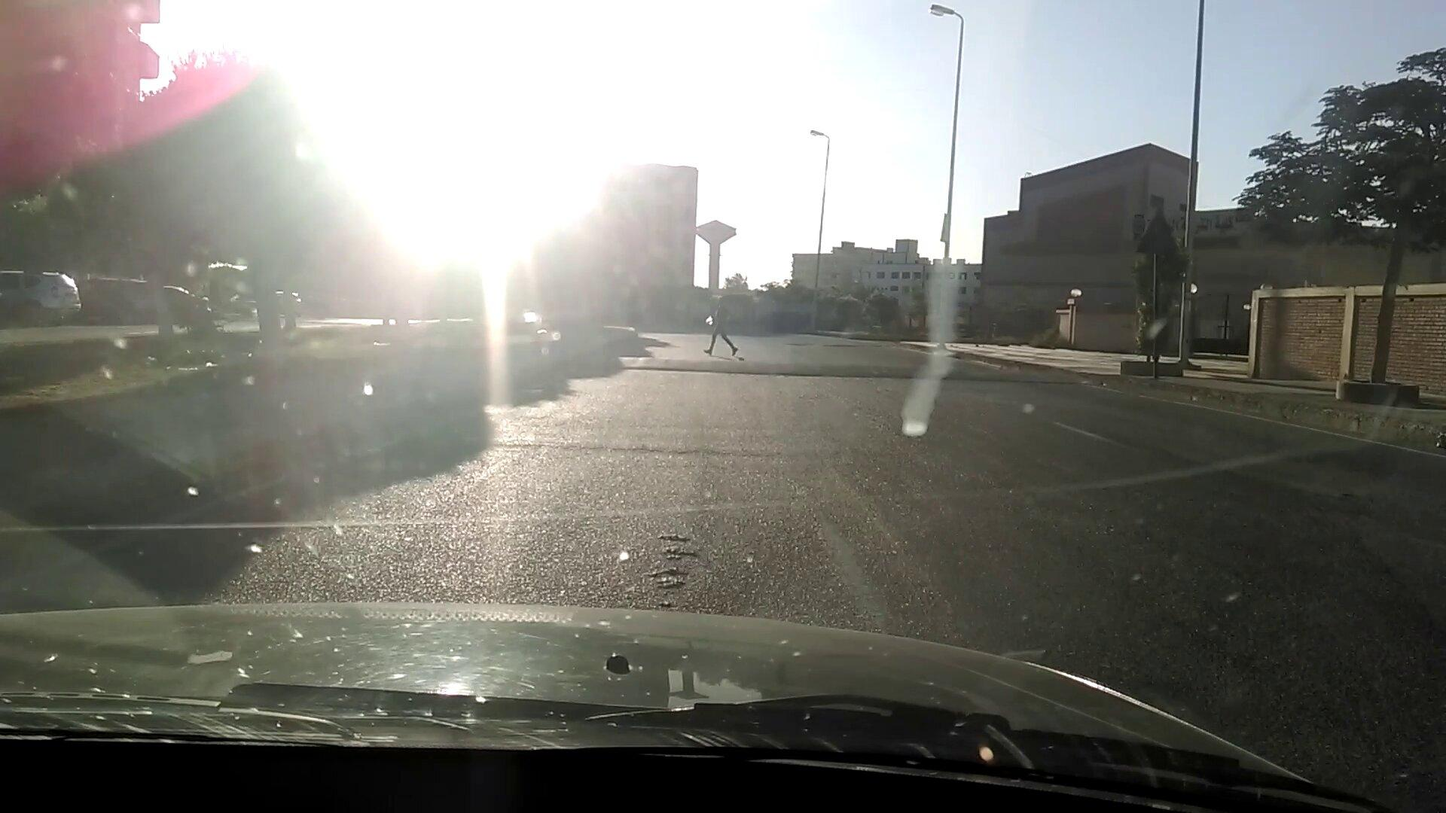Bump: (616, 344, 1120, 395)
